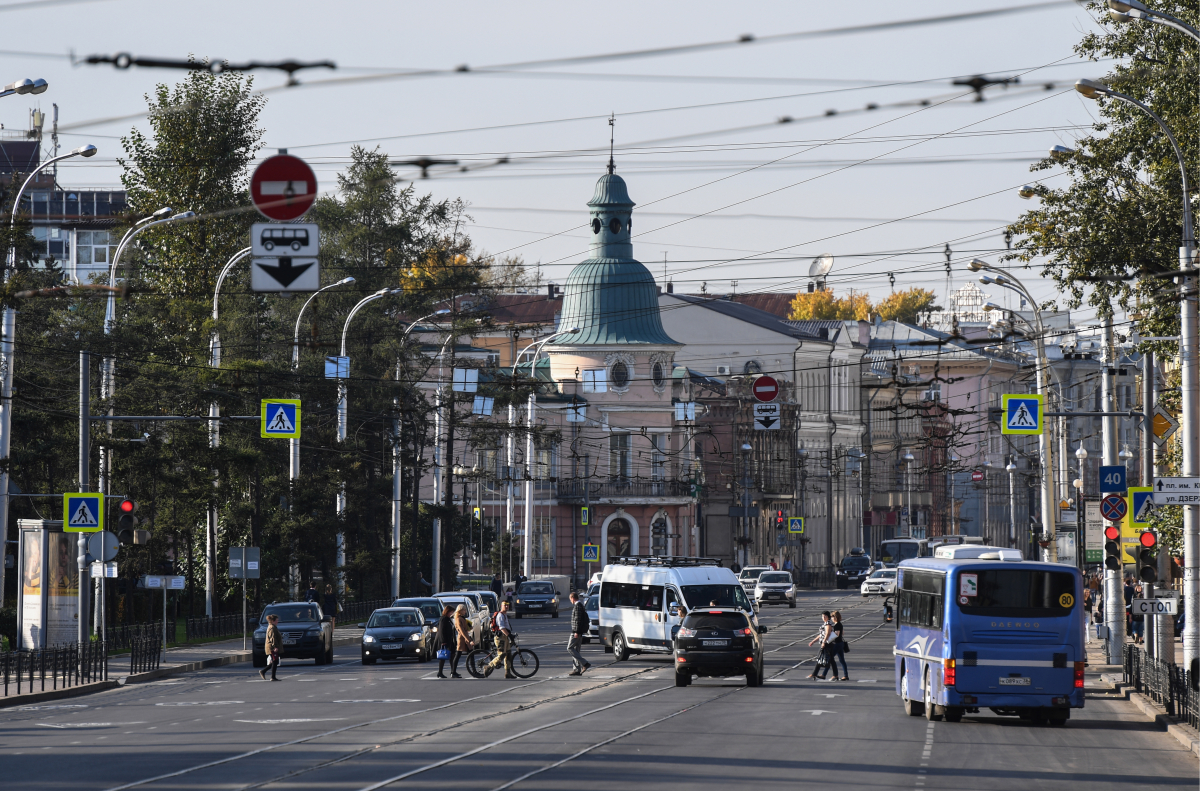sign: (241, 143, 326, 226), (246, 220, 324, 259), (58, 486, 113, 539), (248, 256, 324, 294), (257, 393, 304, 443), (999, 390, 1044, 437), (1137, 401, 1181, 449), (1126, 483, 1168, 526), (1095, 463, 1130, 493), (1131, 596, 1180, 615), (751, 373, 781, 403), (1099, 493, 1128, 522), (580, 540, 602, 565), (786, 514, 806, 535), (579, 502, 591, 528)
